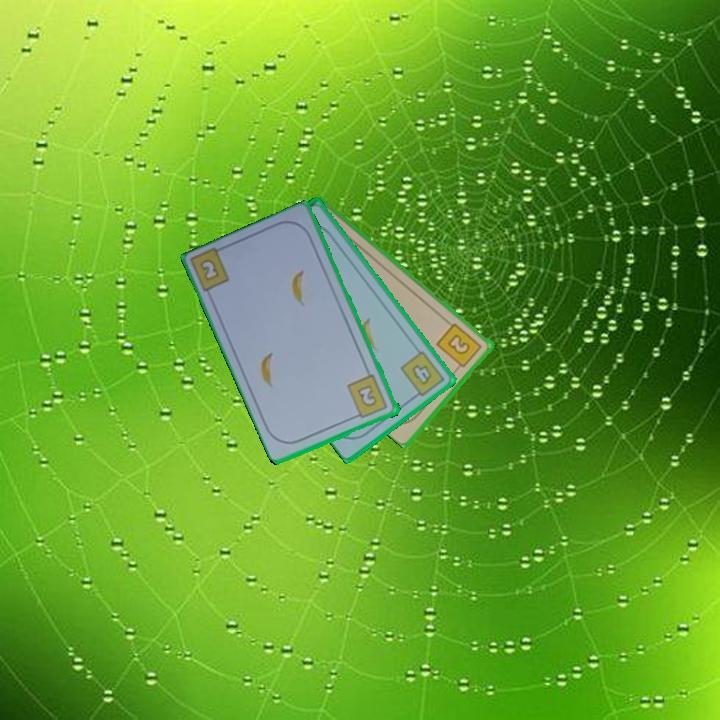2b: (433, 319, 485, 373), (344, 371, 391, 422), (198, 257, 220, 282)
4b: (397, 347, 448, 402)
